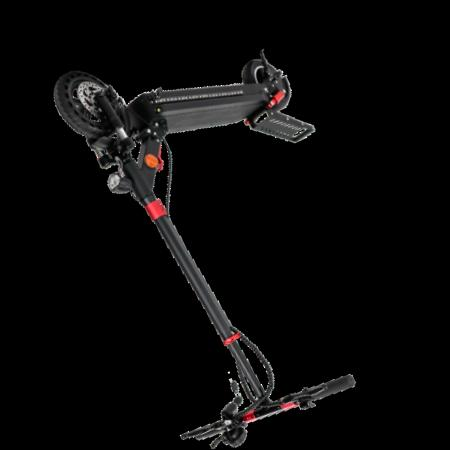scooter: (53, 47, 356, 450)
